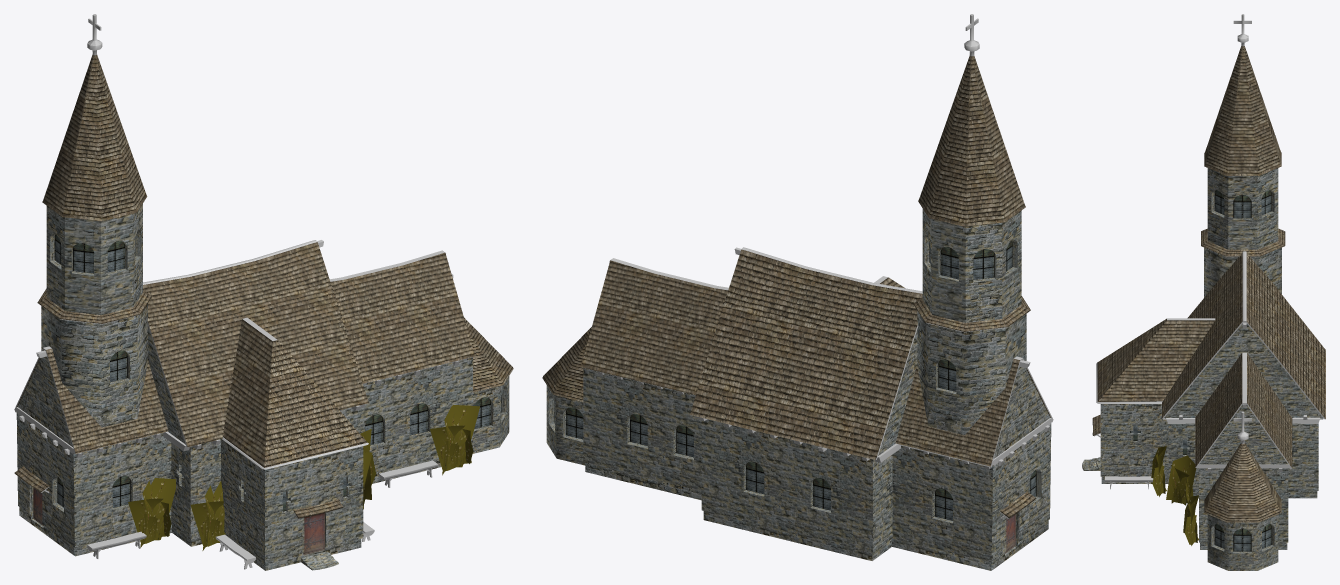
File: f1_church_1.fbx
The picture shows the model from 3 angles, left to right: view 1: azimuth 30°, elevation 25°; view 2: azimuth 150°, elevation 25°; view 3: azimuth 270°, elevation 25°; orthographic projection. The views are drawn at different scales.
Parts seen in each view (by area): view 1: Mesh Object; view 2: Mesh Object; view 3: Mesh Object.
Part boxes in pixels (bbox=[...]): Mesh Object: bbox=[14, 14, 513, 570]; Mesh Object: bbox=[542, 14, 1053, 570]; Mesh Object: bbox=[1082, 14, 1325, 570].
Size of the model in its own units: 19.71 by 20.69 by 11.32.
